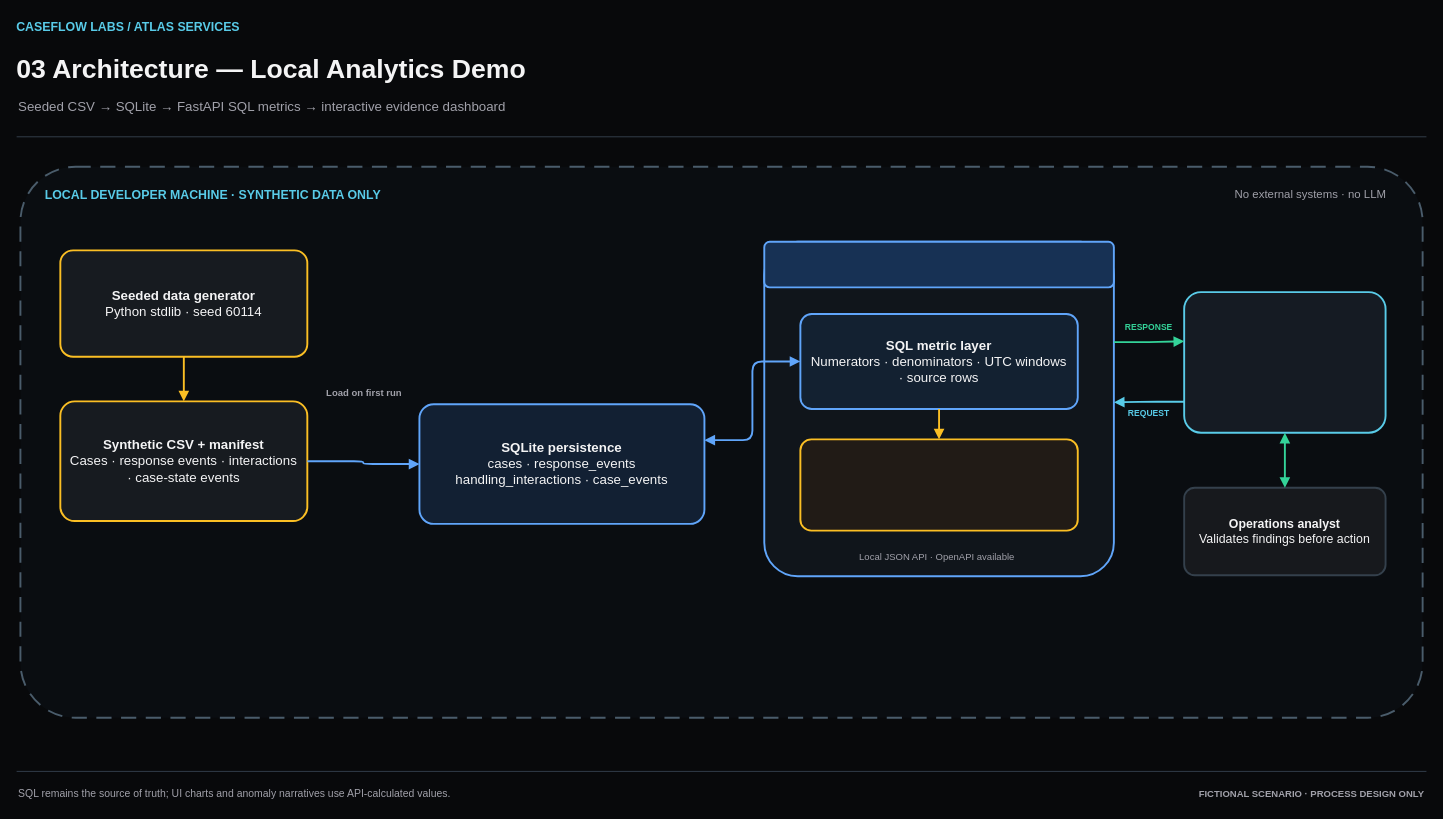
Image size: 1443x819. Some labels were removed from this diagram. Here are the shapes that lost their labels. From the top down, the centre of each, then its label:
At point (938, 264): "FASTAPI · LOCAL SERVICE".
At point (1284, 362): "Browser dashboard KPIs · trends team filters · source drilldown".
At point (938, 484): "Deterministic anomaly rules Thresholds · evidence IDs · review actions".
